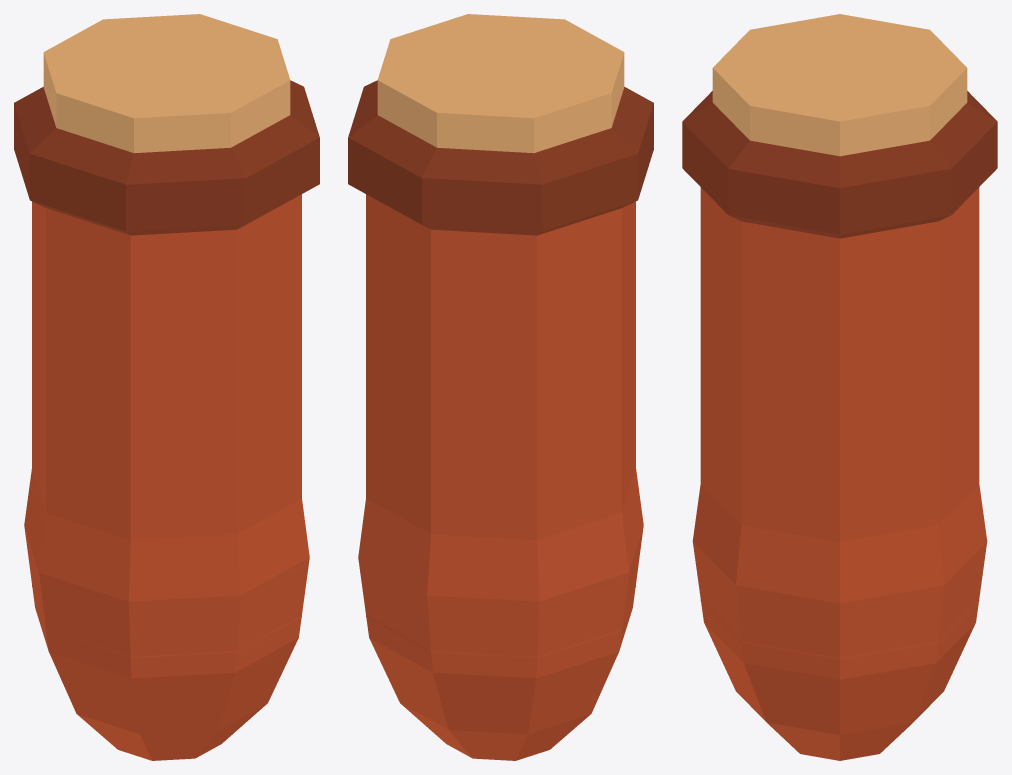
The model's file is FlamefrothTincture.glb.
The picture shows the model from 3 angles, left to right: view 1: azimuth 30°, elevation 25°; view 2: azimuth 150°, elevation 25°; view 3: azimuth 270°, elevation 25°; orthographic projection.
Visible parts, largest first — view 1: Neck, Item, Cork, Lip; view 2: Neck, Item, Cork, Lip; view 3: Neck, Item, Cork, Lip.
Boxes of the visible parts, x1=… form: Neck: x1=32, y1=194, x2=301, y2=658; Item: x1=24, y1=468, x2=309, y2=760; Cork: x1=43, y1=14, x2=290, y2=153; Lip: x1=14, y1=80, x2=319, y2=235; Neck: x1=366, y1=194, x2=635, y2=658; Item: x1=358, y1=468, x2=643, y2=760; Cork: x1=377, y1=14, x2=624, y2=153; Lip: x1=348, y1=80, x2=653, y2=235; Neck: x1=700, y1=187, x2=979, y2=659; Item: x1=692, y1=483, x2=987, y2=760; Cork: x1=712, y1=14, x2=967, y2=156; Lip: x1=682, y1=91, x2=997, y2=238.
Size of the model in its own units: 0.7434 by 1.78 by 0.7434.
4 materials, 4 textured.
